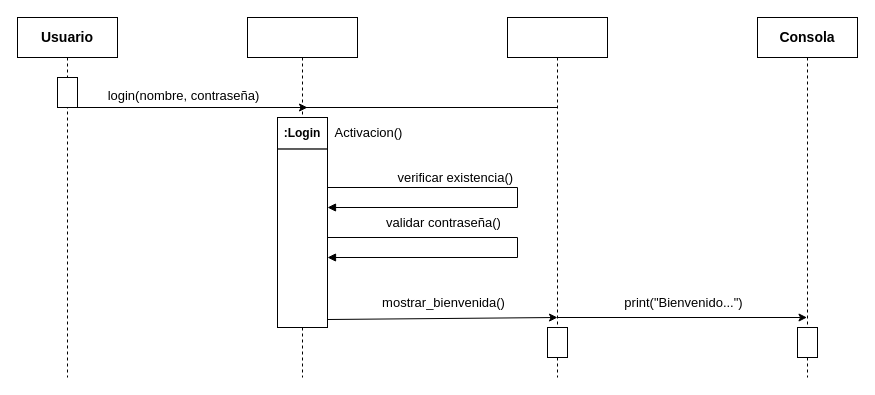
Image size: 875x395. Some labels were removed from this diagram. The shapes that lost their labels are listed below. From the top down, each one's box as (x1, y1, x2, y2) in pixels, then its label:
(246, 16, 358, 378): :SistemaLogin
(506, 16, 608, 378): :UsuarioObj
